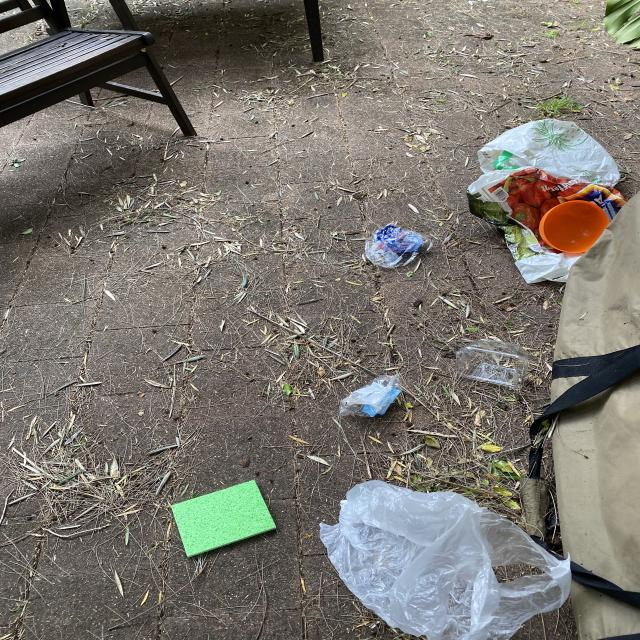bag: (319, 479, 571, 640), (466, 166, 627, 284), (477, 118, 620, 187)
bowl: (539, 200, 610, 253)
cup: (459, 338, 528, 388), (340, 373, 402, 418)
sponge: (171, 480, 277, 558)
wrappers: (365, 222, 432, 269)
